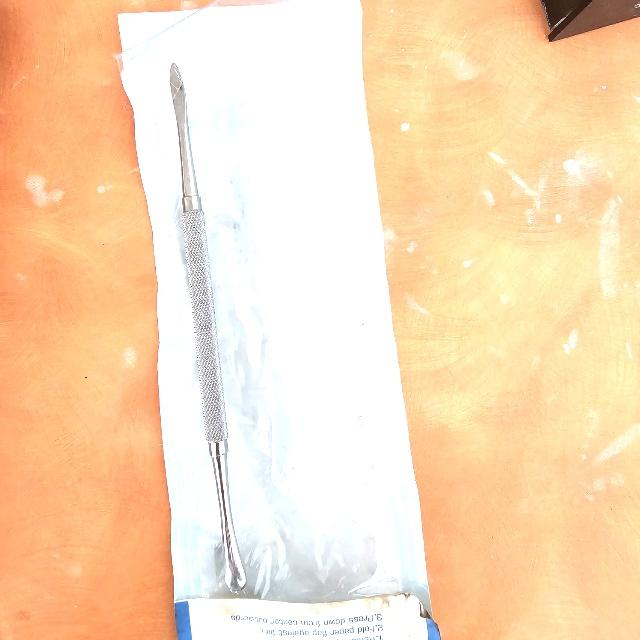elevador: (170, 63, 251, 592)
